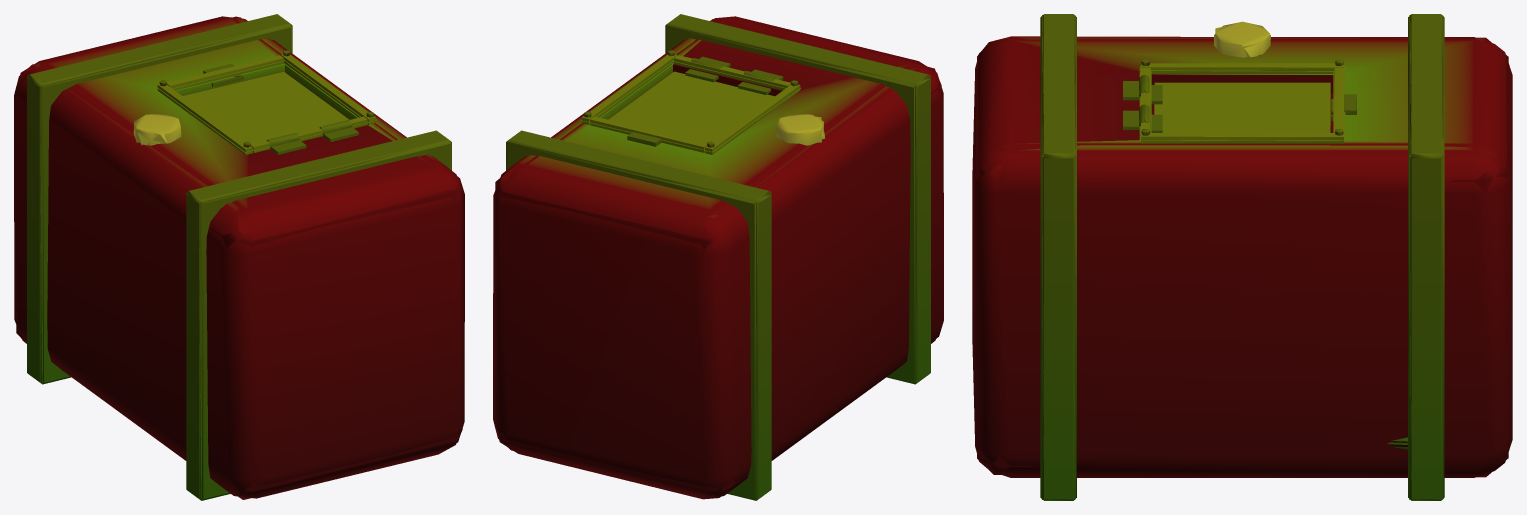
Rendered from RCLModule_salvage_hauler_hazard_industrial_sponsons_LODs.fbx.
3 renders of one model, left to right at view 1: azimuth 30°, elevation 25°; view 2: azimuth 150°, elevation 25°; view 3: azimuth 270°, elevation 25°, orthographic. The views are drawn at different scales.
Visible parts, largest first — view 1: LOD1_RCLModule_salvage_hauler_hazard_industrial_sponsons_Bat (×3), LOD2_RCLModule_salvage_hauler_hazard_industrial_sponsons_Bat (×2); view 2: LOD1_RCLModule_salvage_hauler_hazard_industrial_sponsons_Bat (×3), LOD2_RCLModule_salvage_hauler_hazard_industrial_sponsons_Bat (×2); view 3: LOD1_RCLModule_salvage_hauler_hazard_industrial_sponsons_Bat (×3), LOD2_RCLModule_salvage_hauler_hazard_industrial_sponsons_Bat (×2).
Part boxes in pixels (bbox=[...]): LOD1_RCLModule_salvage_hauler_hazard_industrial_sponsons_Bat (×3): bbox=[14, 14, 464, 500]; LOD2_RCLModule_salvage_hauler_hazard_industrial_sponsons_Bat (×2): bbox=[14, 16, 464, 500]; LOD1_RCLModule_salvage_hauler_hazard_industrial_sponsons_Bat (×3): bbox=[493, 14, 943, 500]; LOD2_RCLModule_salvage_hauler_hazard_industrial_sponsons_Bat (×2): bbox=[493, 16, 943, 500]; LOD1_RCLModule_salvage_hauler_hazard_industrial_sponsons_Bat (×3): bbox=[972, 14, 1512, 500]; LOD2_RCLModule_salvage_hauler_hazard_industrial_sponsons_Bat (×2): bbox=[976, 14, 1508, 500].
Size of the model in its own units: 46.2 by 53.25 by 74.
